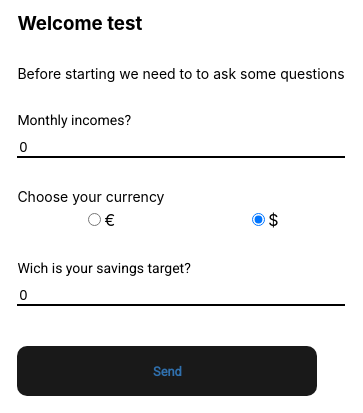
Test: Given a component Incomes › When rendered › Then it should show 3 inputs where the user can type
In the number field labelled "Monthly incomes?": [181, 148] box [17,138,345,158], type "5000"
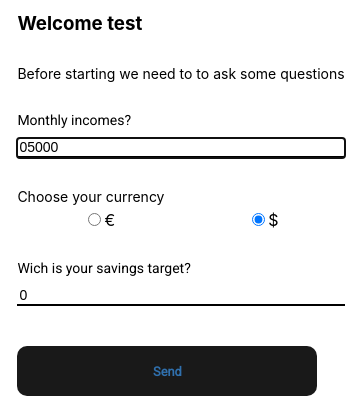
Now the number field labelled "Monthly incomes?" holds "5000", box [17,138,345,158]
In the number field labelled "Wich is your savings target?": [181, 296] box [17,286,345,306], type "5000"
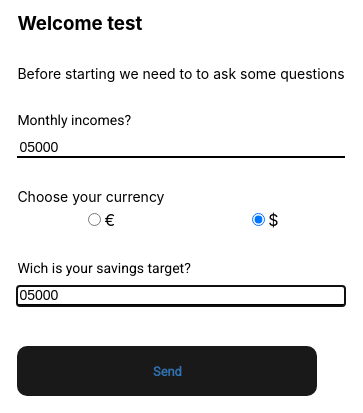
Now the number field labelled "Wich is your savings target?" holds "5000", box [17,286,345,306]
